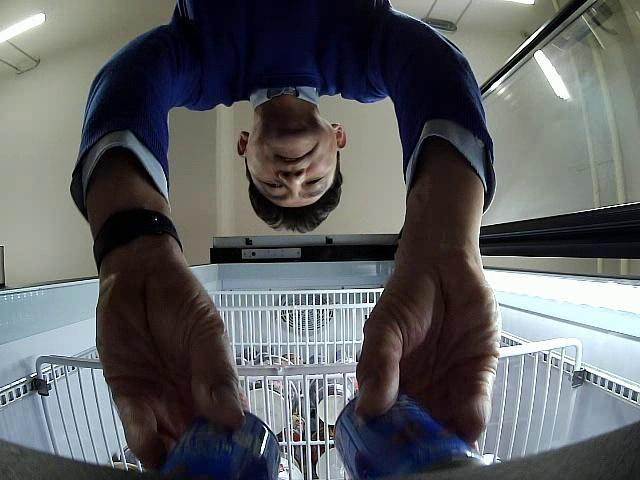15_letsbe: (335, 392, 488, 478), (160, 411, 278, 480)
